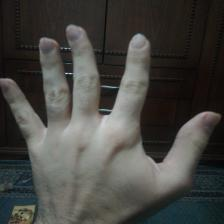five: (6, 24, 216, 214)
